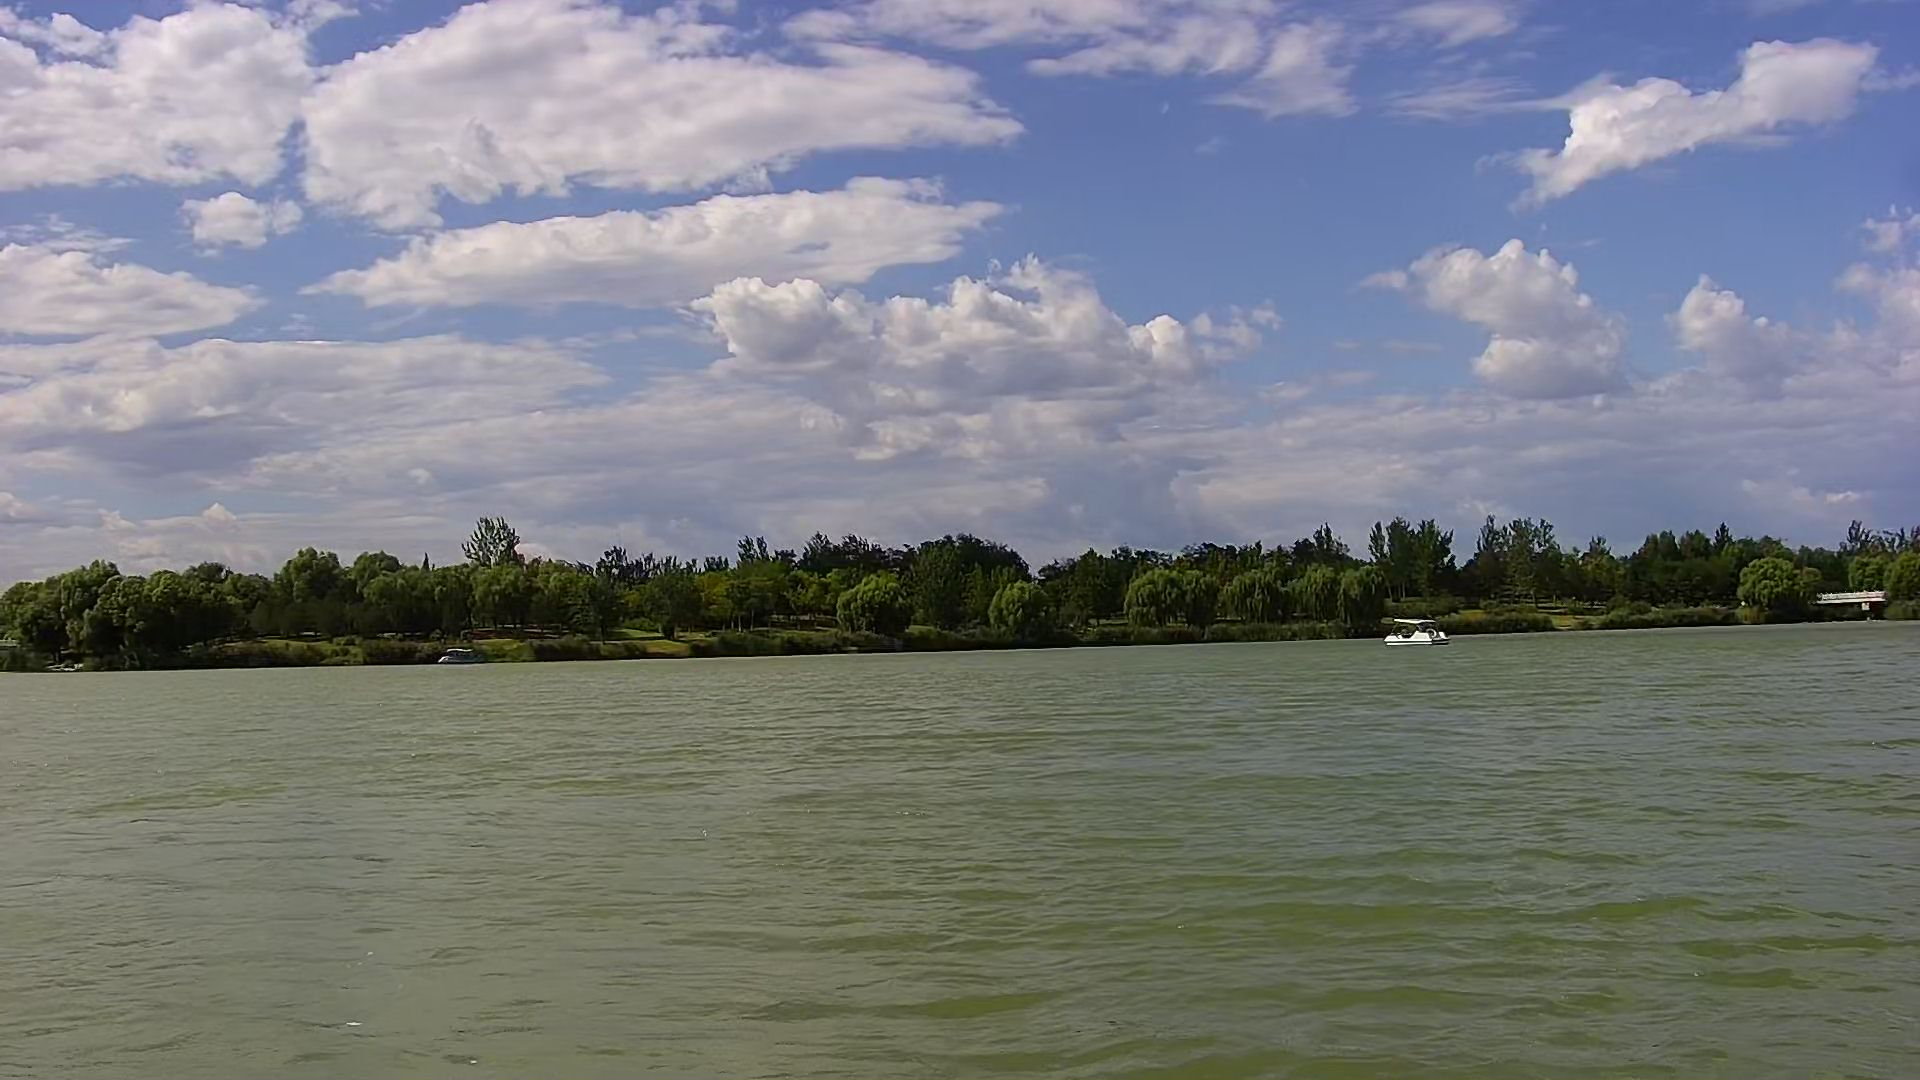boat: (1370, 616, 1451, 649), (438, 647, 485, 665)
harbor: (1793, 589, 1890, 621)
